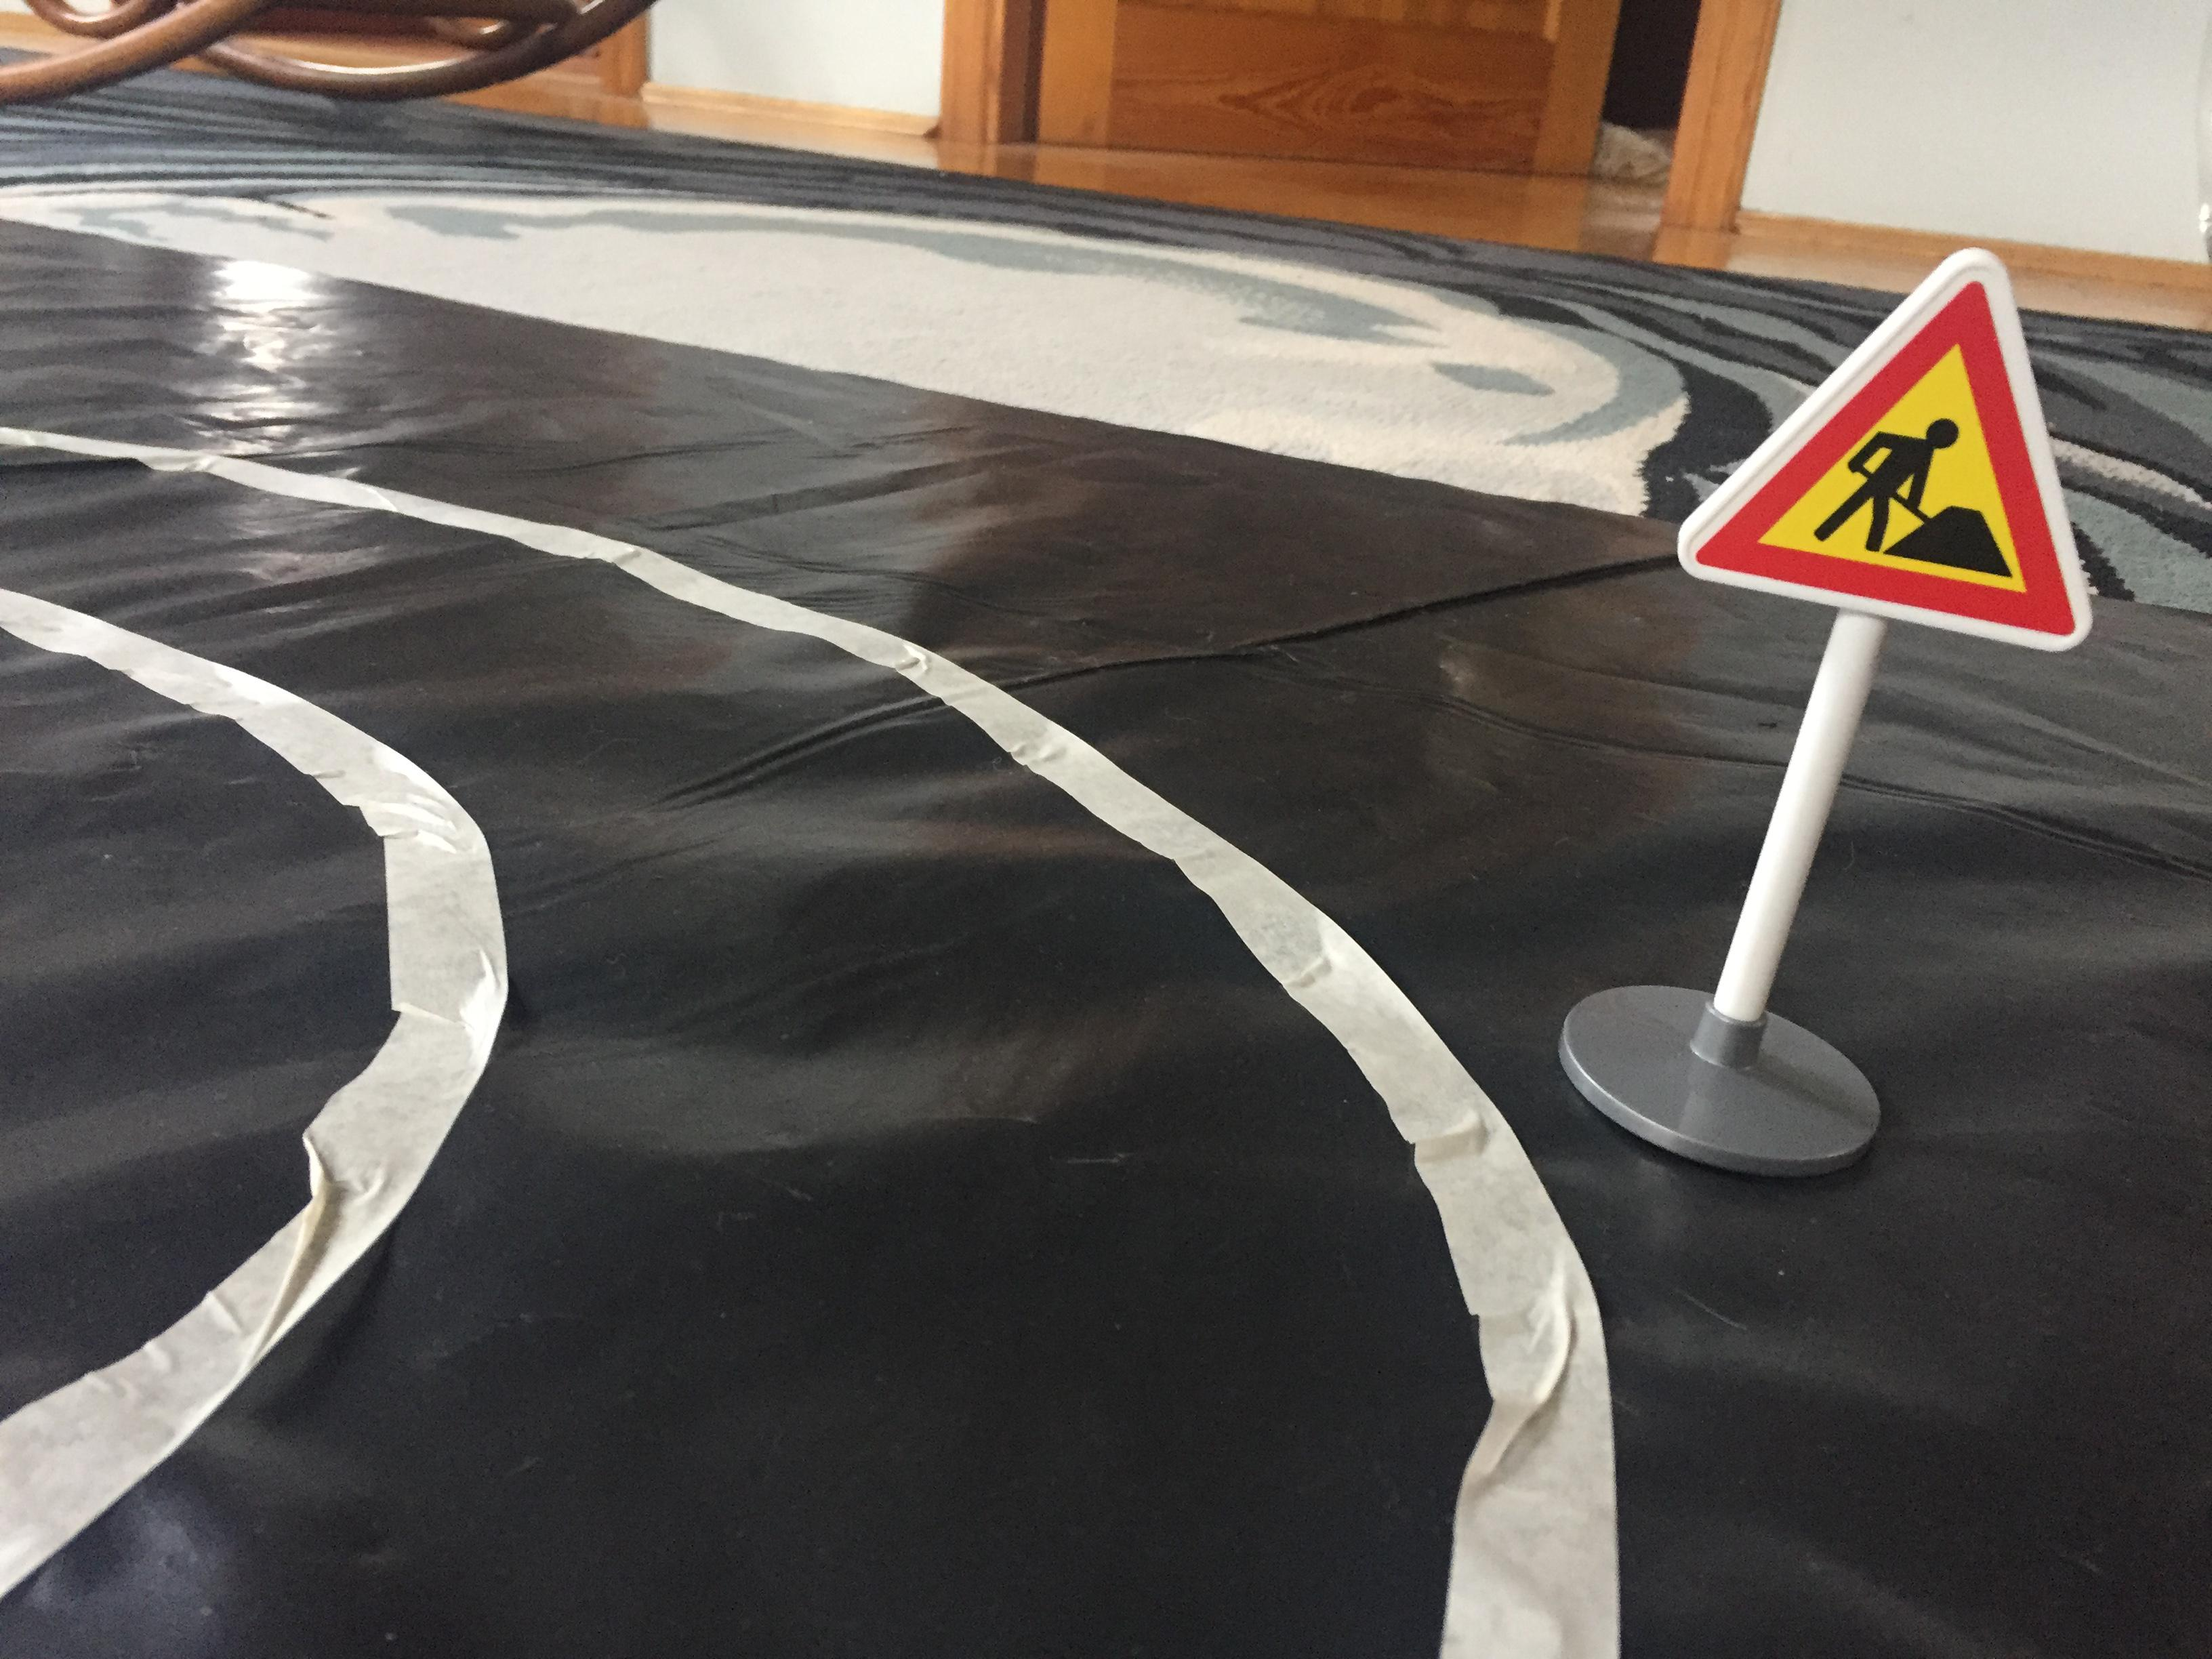work: (1667, 230, 2130, 660)
